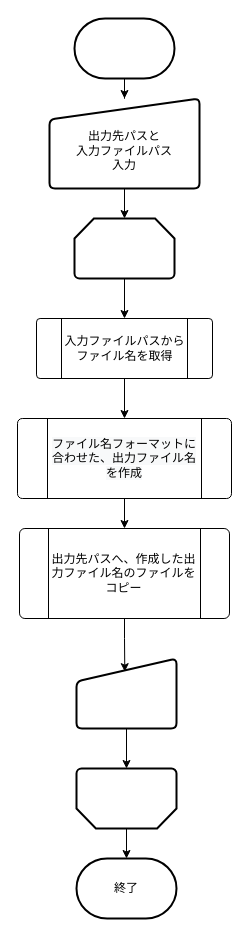
Some shapes in this 249 by 936 pixel diagram are drawn without their labels. The box of each missing label's shape, as (x1, y1, x2, y2) in pixels:
"end" と入力されるまで: (73, 217, 175, 279)
入力ファイルパスを入力: (75, 657, 177, 729)
開始: (73, 17, 175, 79)
